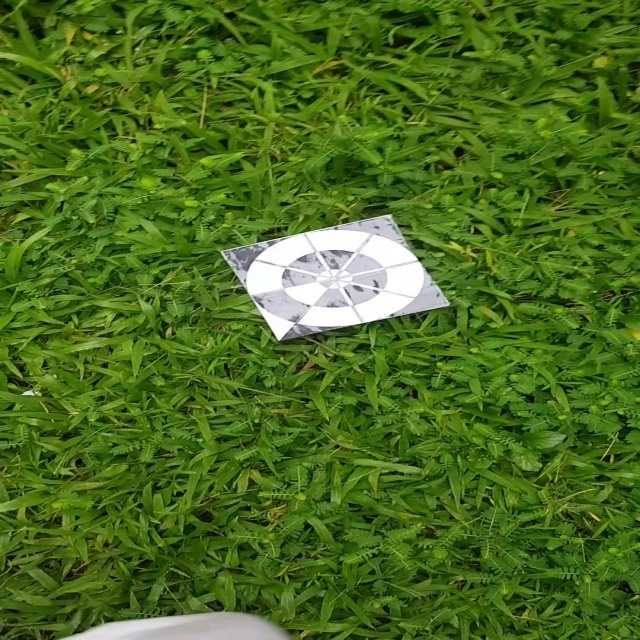landing-zone: (215, 209, 458, 346)
